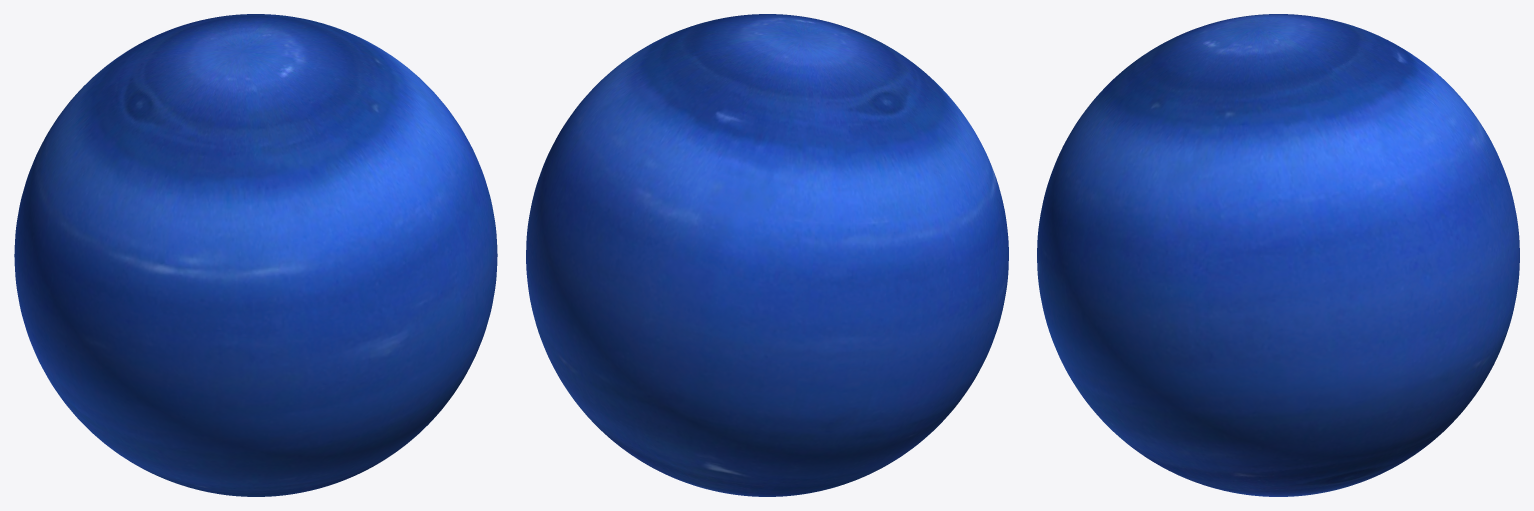
File: neptunus.glb
The picture shows the model from 3 angles, left to right: view 1: azimuth 30°, elevation 25°; view 2: azimuth 150°, elevation 25°; view 3: azimuth 270°, elevation 25°; orthographic projection.
Parts seen in each view (by area): view 1: node_id119_1; view 2: node_id119_1; view 3: node_id119_1.
Part boxes in pixels (x1,y1,x2,y2): node_id119_1: (14, 14, 497, 496); node_id119_1: (526, 14, 1008, 496); node_id119_1: (1037, 14, 1519, 496).
Size of the model in its own units: 0.5119 by 0.512 by 0.5117.
1 material, 1 textured.
